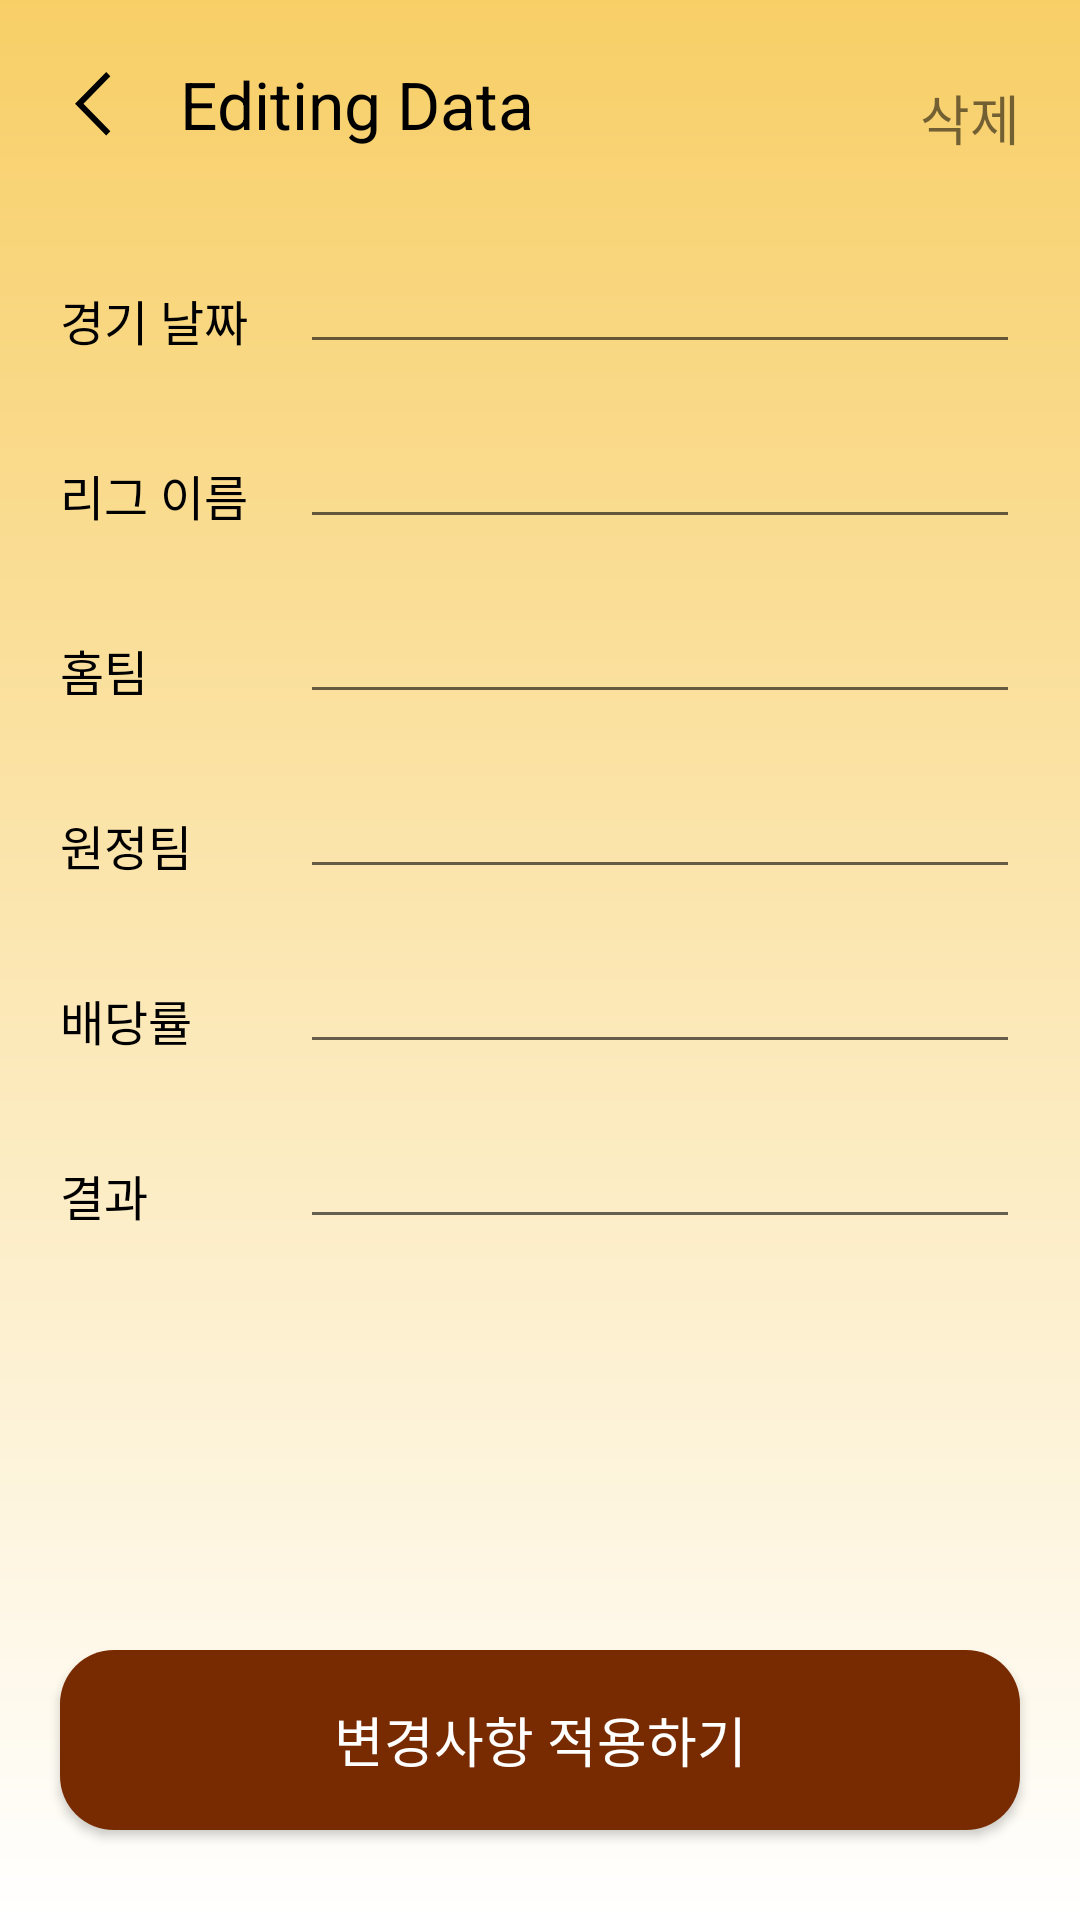

Icon click points for this 1080 x 1920 phone screenshot, format (x,y):
back: (93,104)
